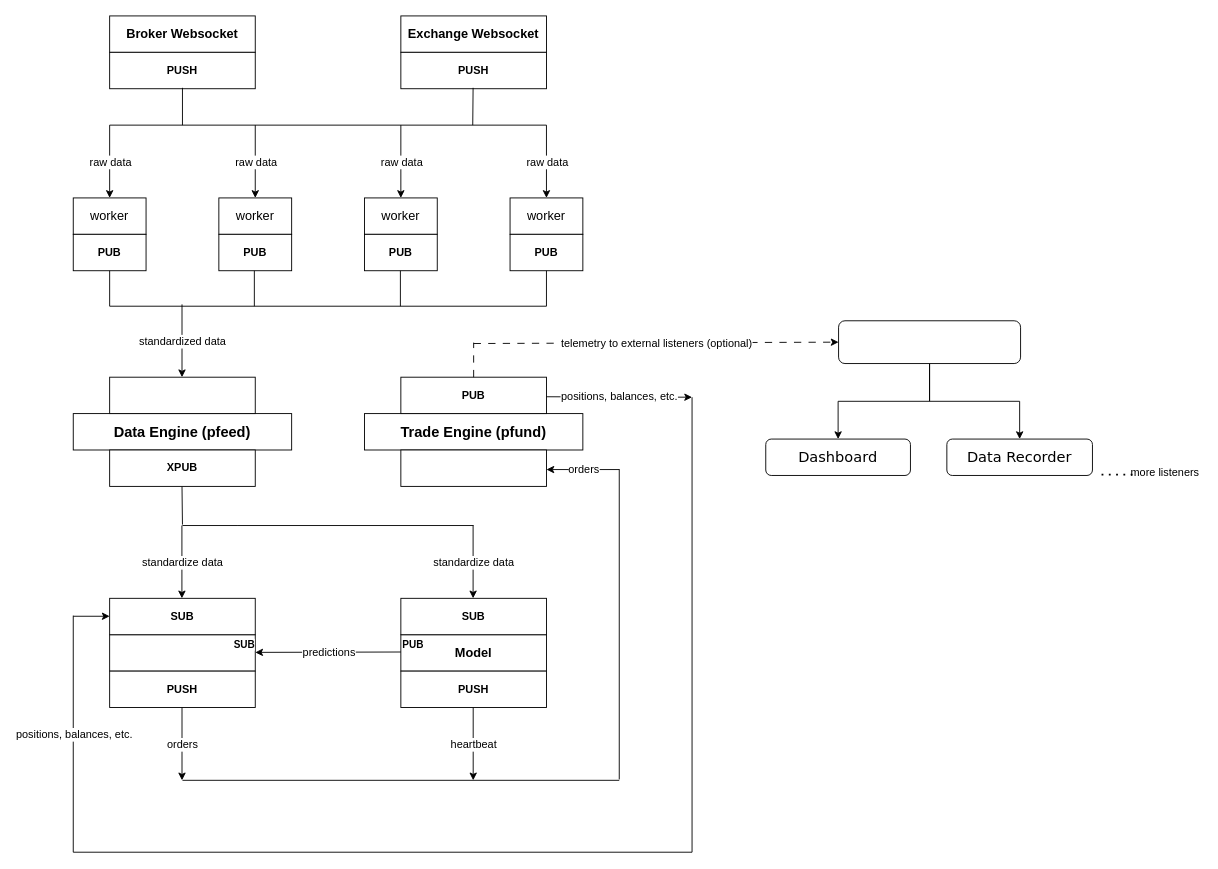
Image size: 1218x869. Some labels were removed from this diagram. Each missing label, with the box of its shape:
PULL: (400, 449, 546, 486)
Strategy: (109, 634, 255, 671)
WebSocket Server: (838, 320, 1021, 364)
XSUB: (109, 376, 255, 414)
